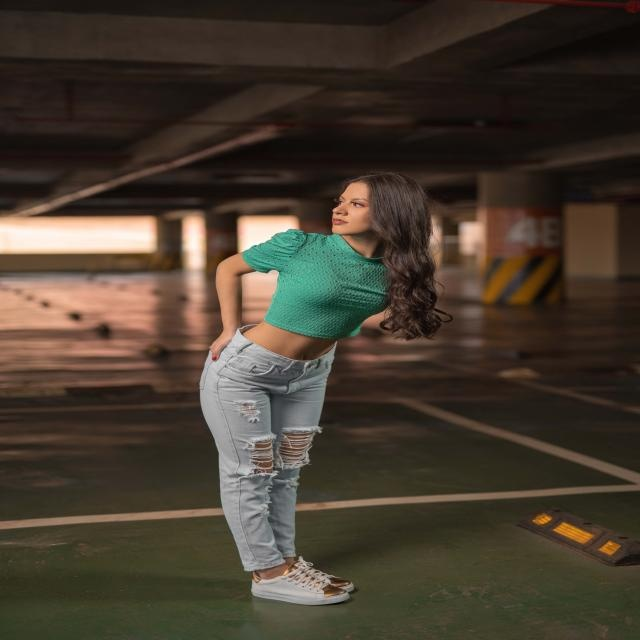Crop_Top: (243, 232, 394, 361)
ripped_pants: (202, 333, 342, 569)
